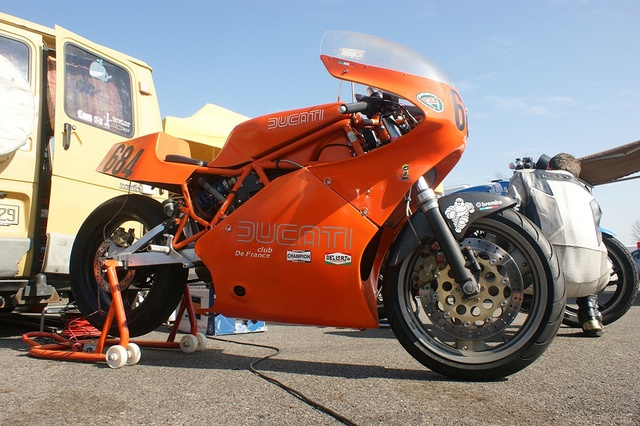non-vehicle: (69, 28, 566, 381), (376, 152, 639, 328)
